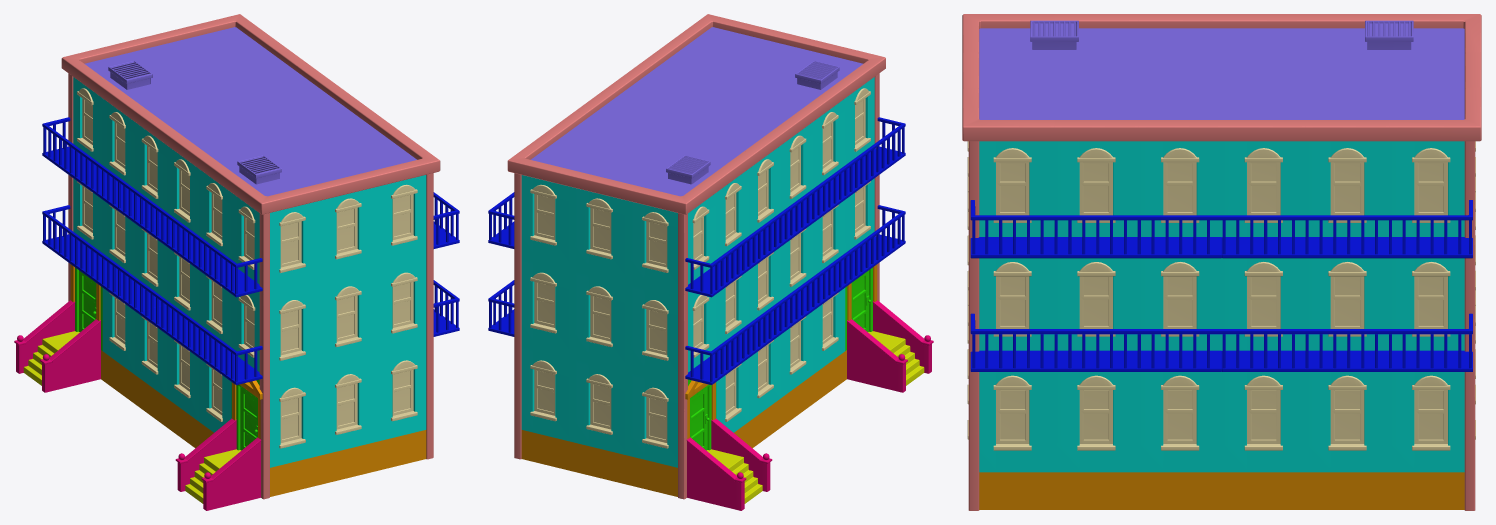
Rendered from Variante Edificio 4.fbx.
3 views of the same model, side by side, from view 1: azimuth 30°, elevation 25°; view 2: azimuth 150°, elevation 25°; view 3: azimuth 270°, elevation 25° (orthographic). The views are drawn at different scales.
Visible parts, largest first — view 1: Tile pared Ventana.059, Tile pared Ventana.062, Tile pared Ventana.061, Tile pared Ventana.058, Tile pared Ventana.055, Tile pared Ventana.060, Tile pared Ventana.063, Tile pared Ventana.057, Tile pared Ventana.056, Soporte barandilla entrada.004, Soporte barandilla entrada.001, Plane.228 (+92 smaller); view 2: Tile pared Ventana.068, Tile pared Ventana.071, Tile pared Ventana.072, Tile pared Ventana.069, Tile pared Ventana.064, Tile pared Ventana.070, Tile pared Ventana.067, Tile pared Ventana.065, Tile pared Ventana.066, Soporte barandilla entrada.002, Soporte barandilla entrada.005, Plane.239 (+92 smaller); view 3: Tile pared Ventana.031, Tile pared Ventana.034, Tile pared Ventana.032, Tile pared Ventana.033, Tile pared Ventana.022, Tile pared Ventana.019, Tile pared Ventana.020, Tile pared Ventana.030, Tile pared Ventana.035, Tile pared Ventana.021, Tile pared Ventana.028, Tile pared Ventana.025 (+88 smaller).
Boxes of the visible parts, x1,y1,x2,y2 form: Tile pared Ventana.059: (320,266,375,367); Tile pared Ventana.062: (320,354,375,455); Tile pared Ventana.061: (376,342,426,441); Tile pared Ventana.058: (376,254,426,353); Tile pared Ventana.055: (320,187,375,279); Tile pared Ventana.060: (270,280,319,379); Tile pared Ventana.063: (270,368,319,467); Tile pared Ventana.057: (376,175,426,266); Tile pared Ventana.056: (270,201,319,291); Soporte barandilla entrada.004: (42,322,100,392); Soporte barandilla entrada.001: (203,441,260,510); Plane.228: (223,107,310,144); Tile pared Ventana.068: (572,266,627,367); Tile pared Ventana.071: (572,354,627,455); Tile pared Ventana.072: (521,342,571,441); Tile pared Ventana.069: (521,254,571,353); Tile pared Ventana.064: (572,187,627,279); Tile pared Ventana.070: (628,368,677,467); Tile pared Ventana.067: (628,280,677,379); Tile pared Ventana.065: (521,175,571,266); Tile pared Ventana.066: (628,201,677,291); Soporte barandilla entrada.002: (847,322,905,392); Soporte barandilla entrada.005: (687,441,744,510); Plane.239: (637,107,724,144); Tile pared Ventana.031: (1054,372,1138,472); Tile pared Ventana.034: (1305,372,1389,472); Tile pared Ventana.032: (1138,372,1221,472); Tile pared Ventana.033: (1222,372,1305,472); Tile pared Ventana.022: (1305,141,1389,236); Tile pared Ventana.019: (1054,141,1138,236); Tile pared Ventana.020: (1138,141,1221,236); Tile pared Ventana.030: (979,372,1054,472); Tile pared Ventana.035: (1389,372,1464,472); Tile pared Ventana.021: (1222,141,1305,236); Tile pared Ventana.028: (1305,258,1389,350); Tile pared Ventana.025: (1054,258,1138,350).
Size of the model in its own units: 1241 by 904 by 1036.
